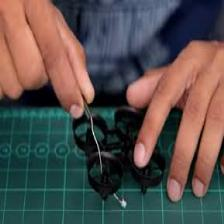drone: (68, 102, 168, 202)
